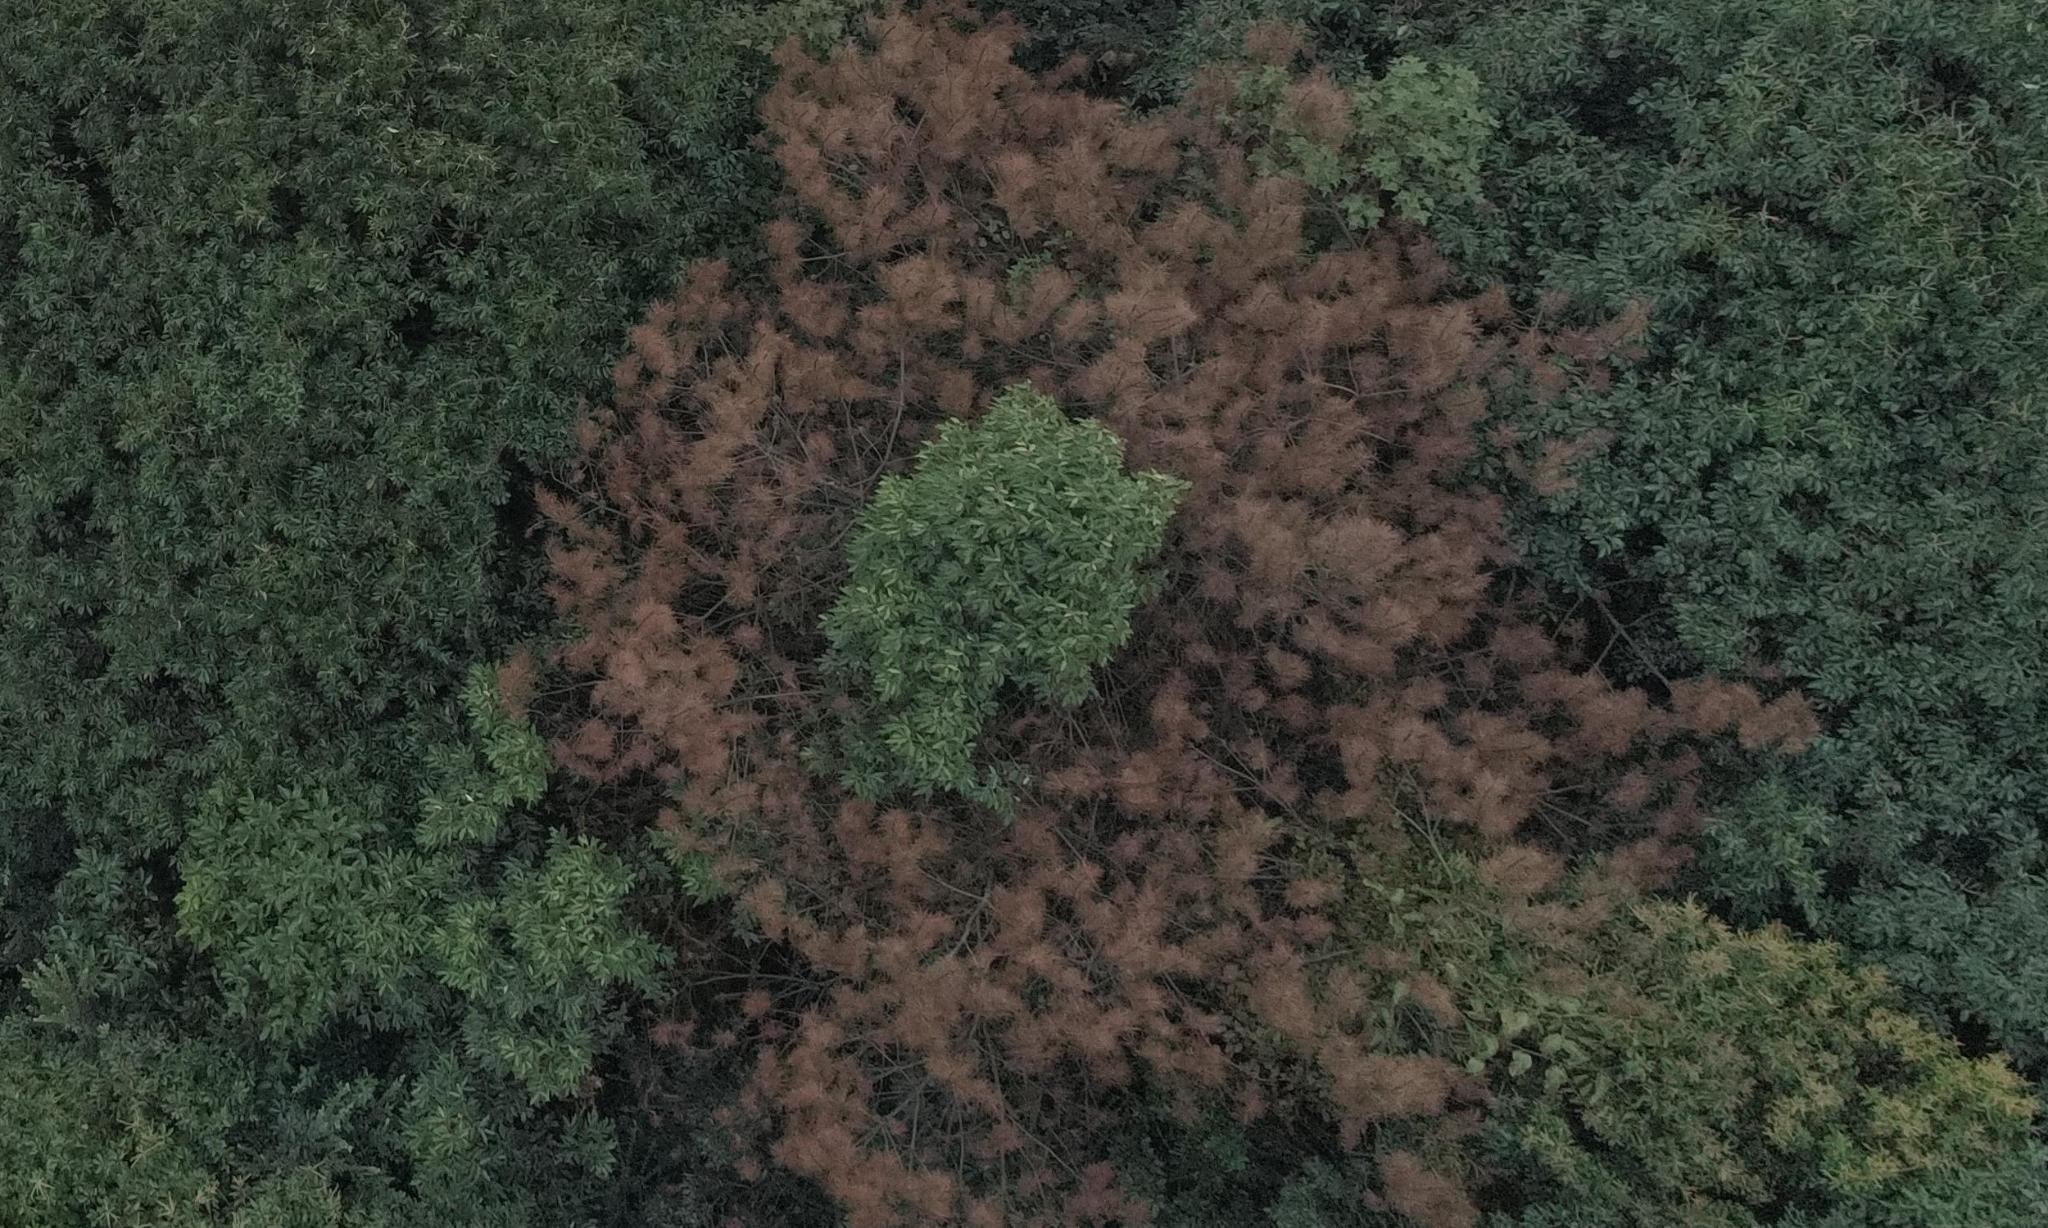heavy: (507, 23, 1779, 1194)
